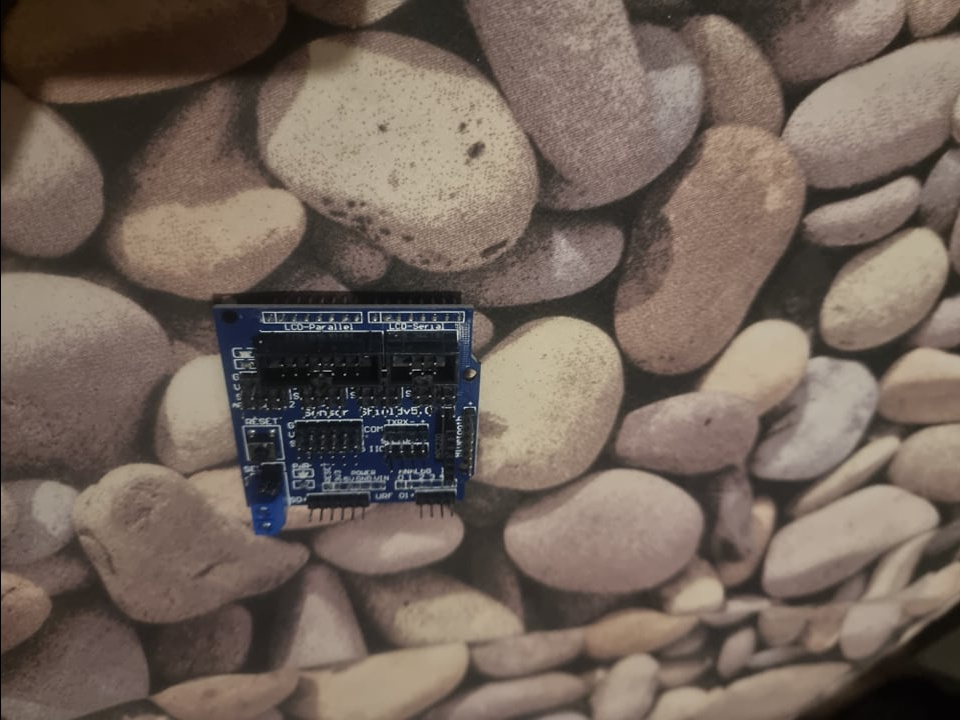5V EXPANSION: (210, 298, 481, 534)
